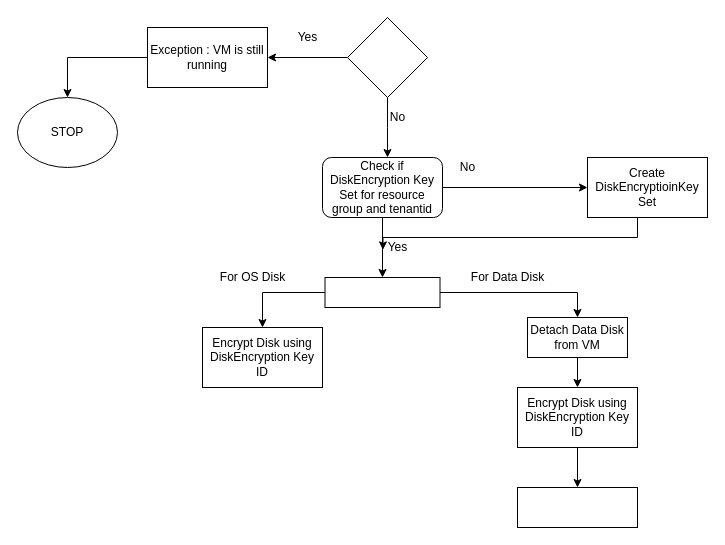
This 725x545 diagram has some shape labels left out. The centre of each missing label's shape, as x and y in pixels:
Attach Disk to VM: [577,507]
Get All OS and Data Disks: [382,292]
Is VM Up: [387,57]
